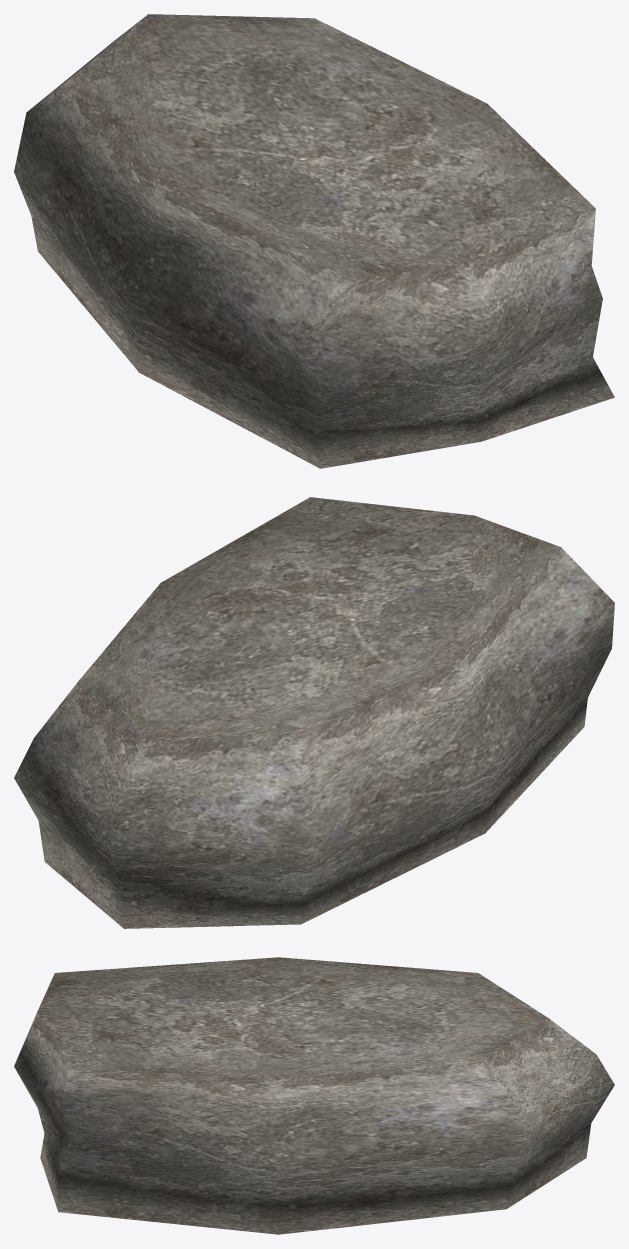
File: elevator-2.fbx
3 views of the same model, one above another, from view 1: azimuth 30°, elevation 25°; view 2: azimuth 150°, elevation 25°; view 3: azimuth 270°, elevation 25° (orthographic). The views are drawn at different scales.
Visible parts, largest first — view 1: pCube2; view 2: pCube2; view 3: pCube2.
Part boxes in pixels (x1,y1,x2,y2): pCube2: (14,14,614,468); pCube2: (14,497,614,928); pCube2: (14,957,614,1234).
Size of the model in its own units: 3.13 by 1.32 by 5.12.
